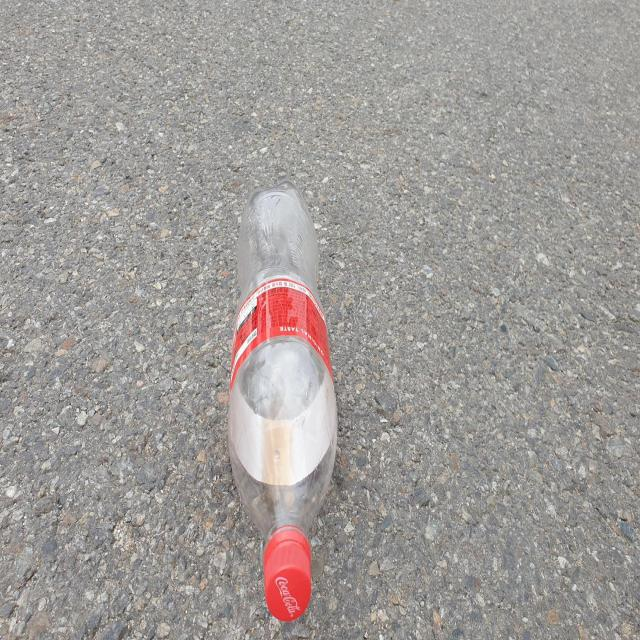plastic: (228, 180, 338, 622)
